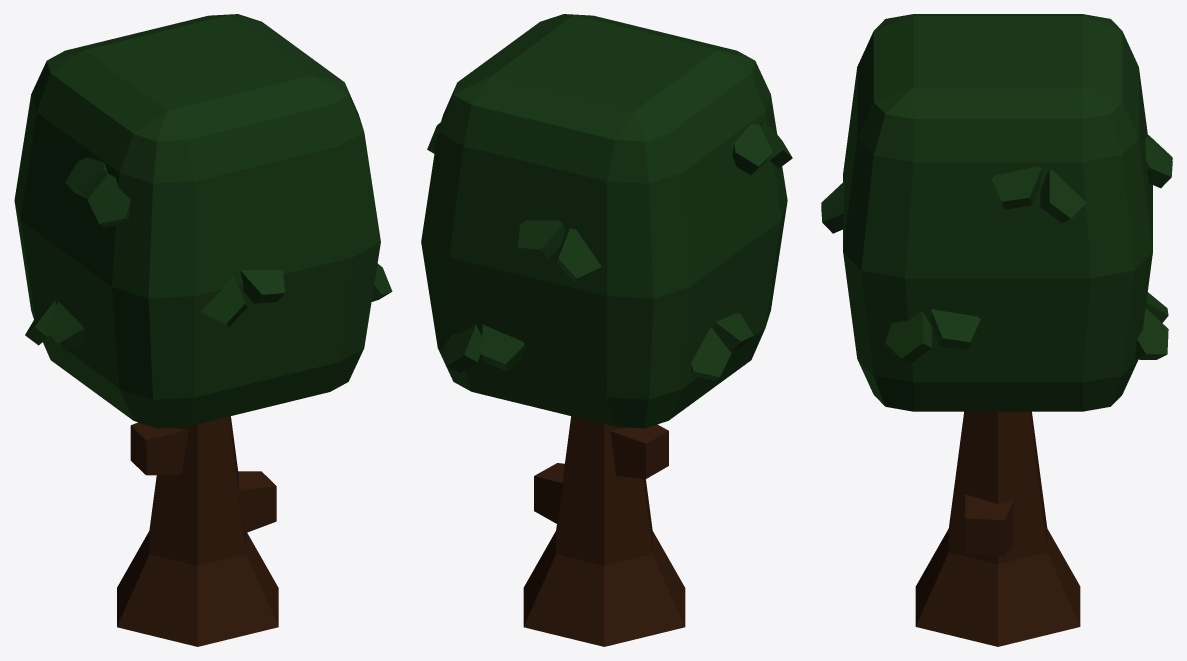
File: ReferenceCanopyTree.obj
The picture shows the model from 3 angles, left to right: view 1: azimuth 30°, elevation 25°; view 2: azimuth 150°, elevation 25°; view 3: azimuth 270°, elevation 25°; orthographic projection.
Parts seen in each view (by area): view 1: TreeLeaves, TreeTrunk; view 2: TreeLeaves, TreeTrunk; view 3: TreeLeaves, TreeTrunk.
Boxes of the visible parts, <box> form: TreeLeaves: <box>14,14,392,428</box>; TreeTrunk: <box>117,416,278,646</box>; TreeLeaves: <box>421,14,792,428</box>; TreeTrunk: <box>523,416,685,646</box>; TreeLeaves: <box>821,14,1172,411</box>; TreeTrunk: <box>915,411,1080,646</box>.
Bounding box in the file's own units: 1.09 × 1.93 × 1.11.
